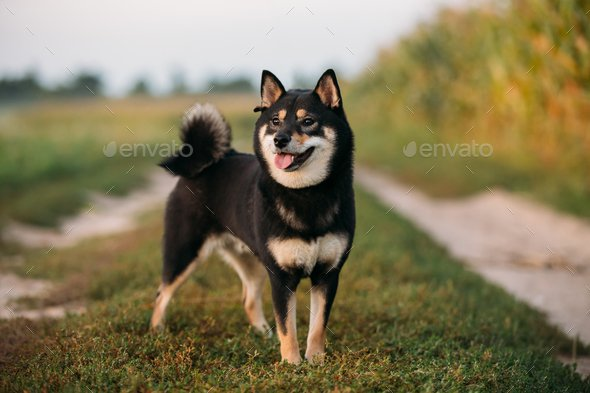dog: (149, 68, 364, 367)
